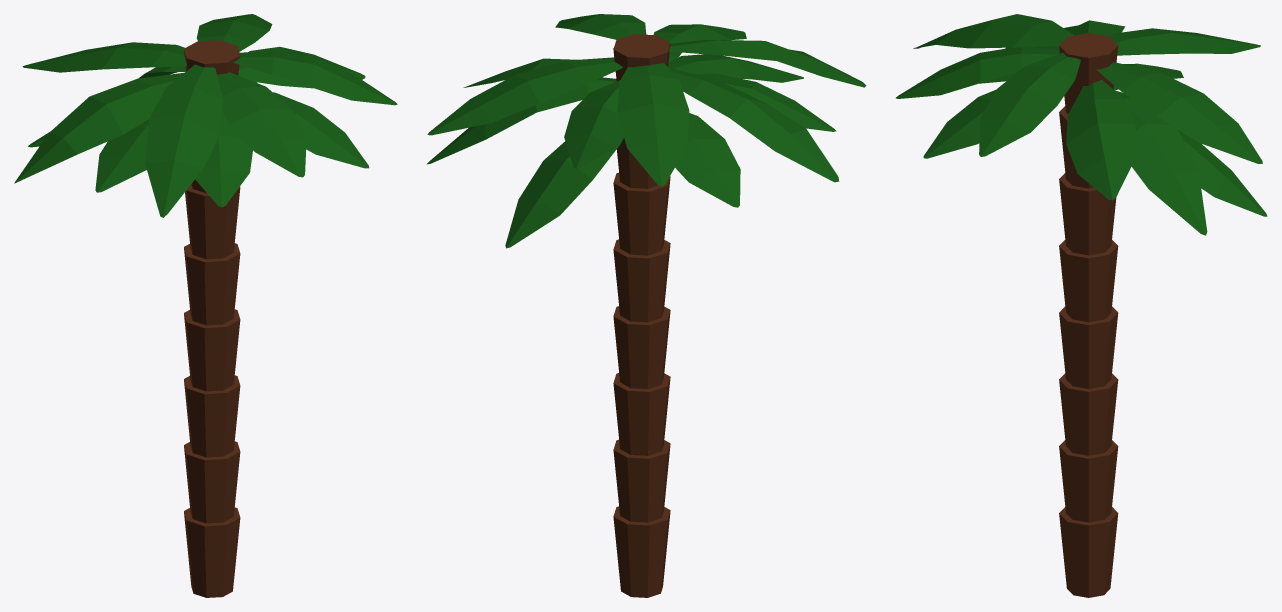
The model's file is Palmera3 1.fbx.
3 views of the same model, side by side, from view 1: azimuth 30°, elevation 25°; view 2: azimuth 150°, elevation 25°; view 3: azimuth 270°, elevation 25° (orthographic).
Visible parts, largest first — view 1: Palmera3G; view 2: Palmera3G; view 3: Palmera3G.
Boxes of the visible parts, bbox=[...] form: Palmera3G: bbox=[14, 14, 397, 597]; Palmera3G: bbox=[427, 14, 866, 597]; Palmera3G: bbox=[896, 14, 1267, 597].
Bounding box in the file's own units: 607 × 861 × 534.
